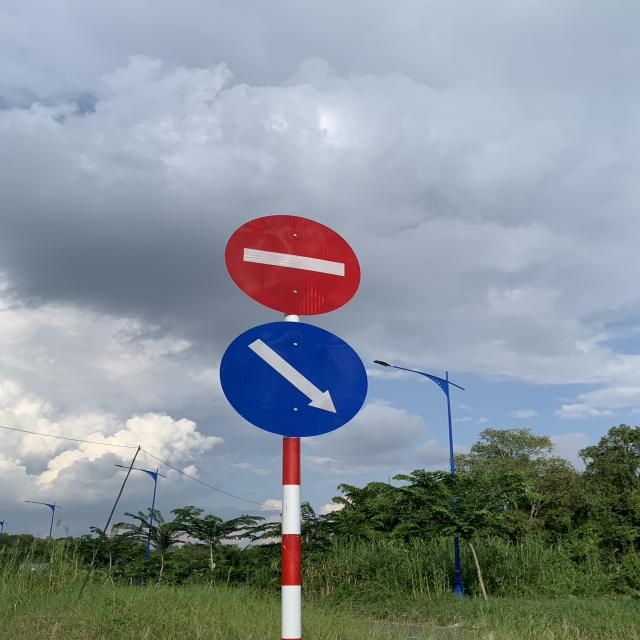Cam_Di_Nguoc_Chieu: (227, 214, 362, 316)
Chi_Huong_Di_Phai: (222, 322, 370, 438)
